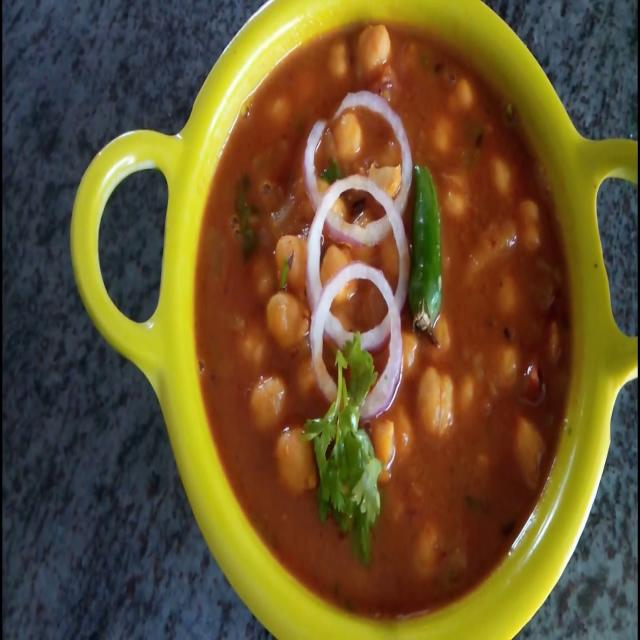Chole: (194, 24, 574, 620)
